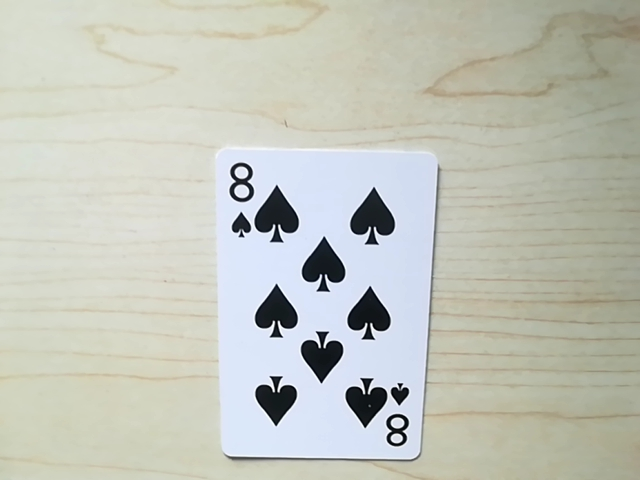ht 8: (221, 156, 262, 237), (373, 393, 416, 455)
